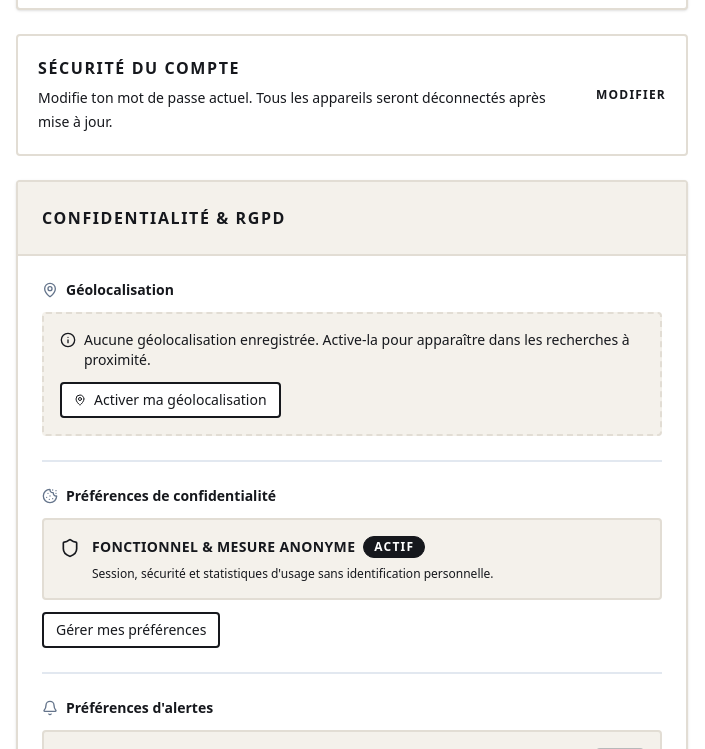
Test case: Géolocalisation — aucune position enregistrée › GPS refusé → affiche message permission refusée
This screenshot has width=705, height=749.
(page scrolled)
Click the button "Activer ma géolocalisation": (170,400) [60, 382, 281, 418]
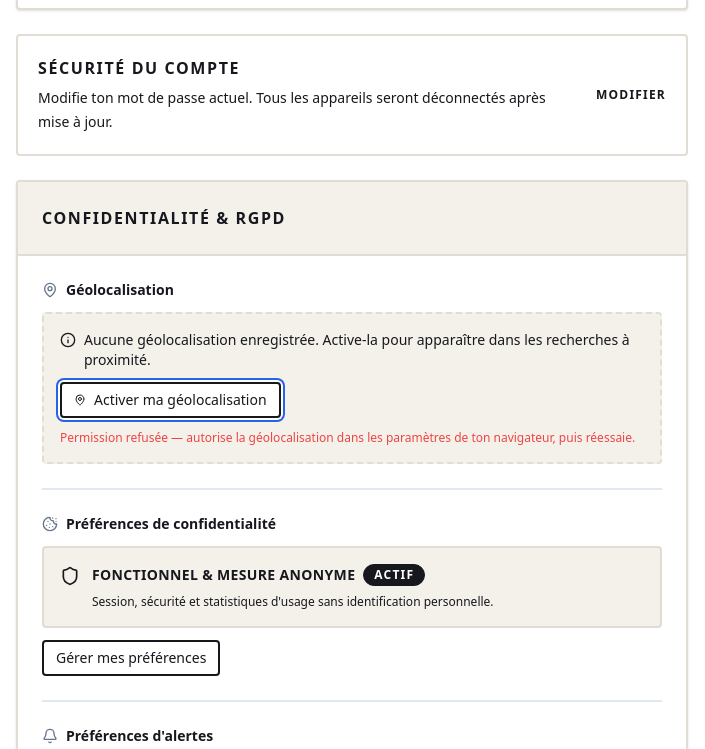
Check: the text "Permission refusée" is shown, box [60, 429, 635, 446]
